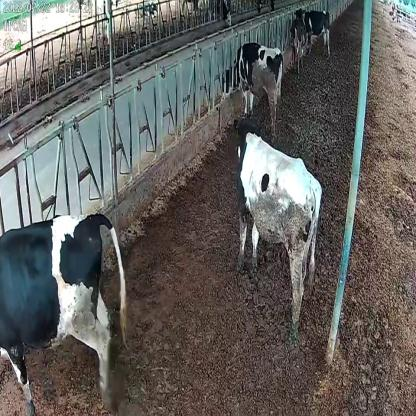cow: (2, 213, 127, 416), (232, 118, 322, 338), (219, 42, 284, 142), (290, 14, 305, 72)
